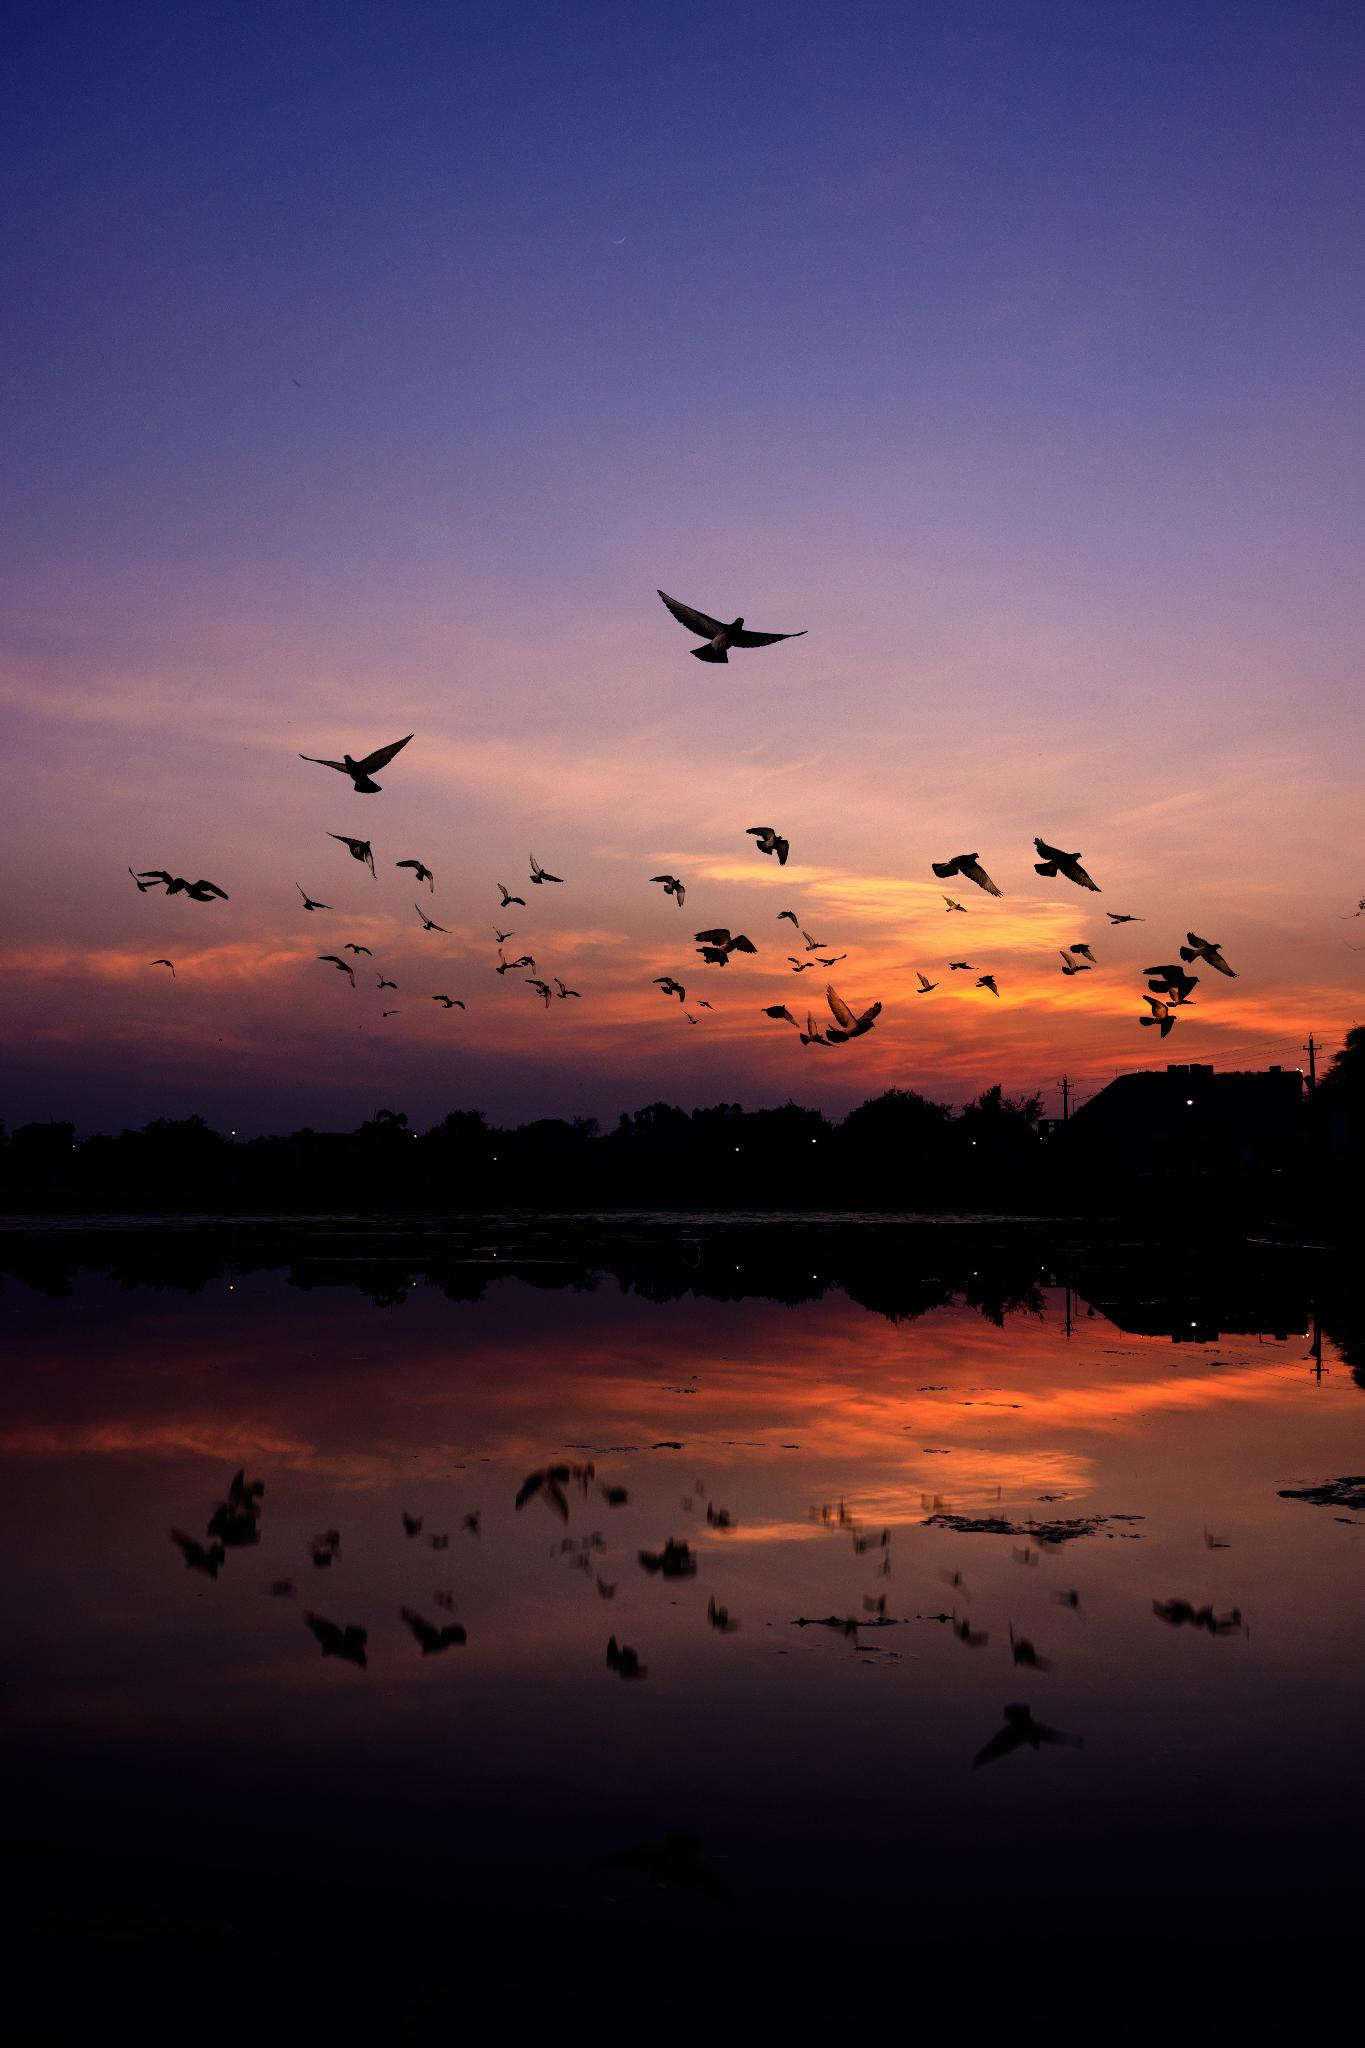bird: (626, 562, 820, 696), (283, 710, 437, 802), (731, 809, 801, 879), (637, 860, 702, 914), (396, 900, 462, 944), (906, 968, 935, 1002)
